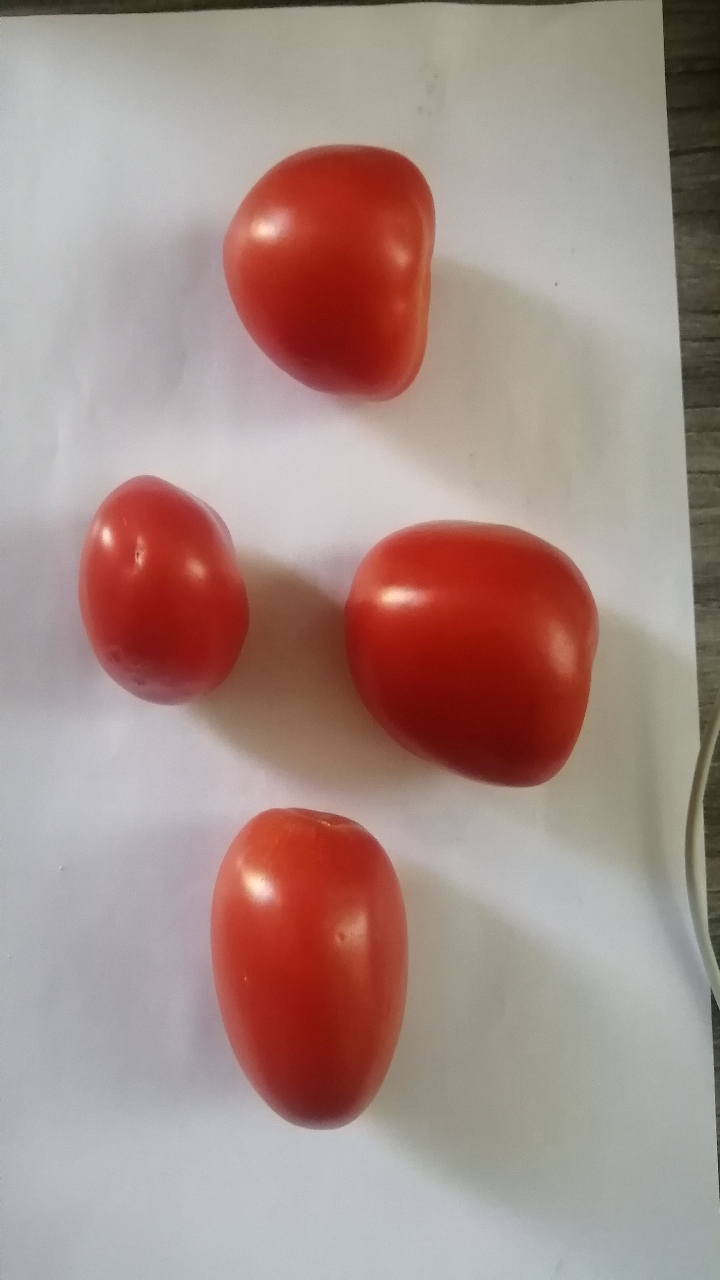tomateRojo: (320, 489, 614, 803), (192, 785, 423, 1146), (200, 129, 469, 412), (74, 449, 257, 722)
